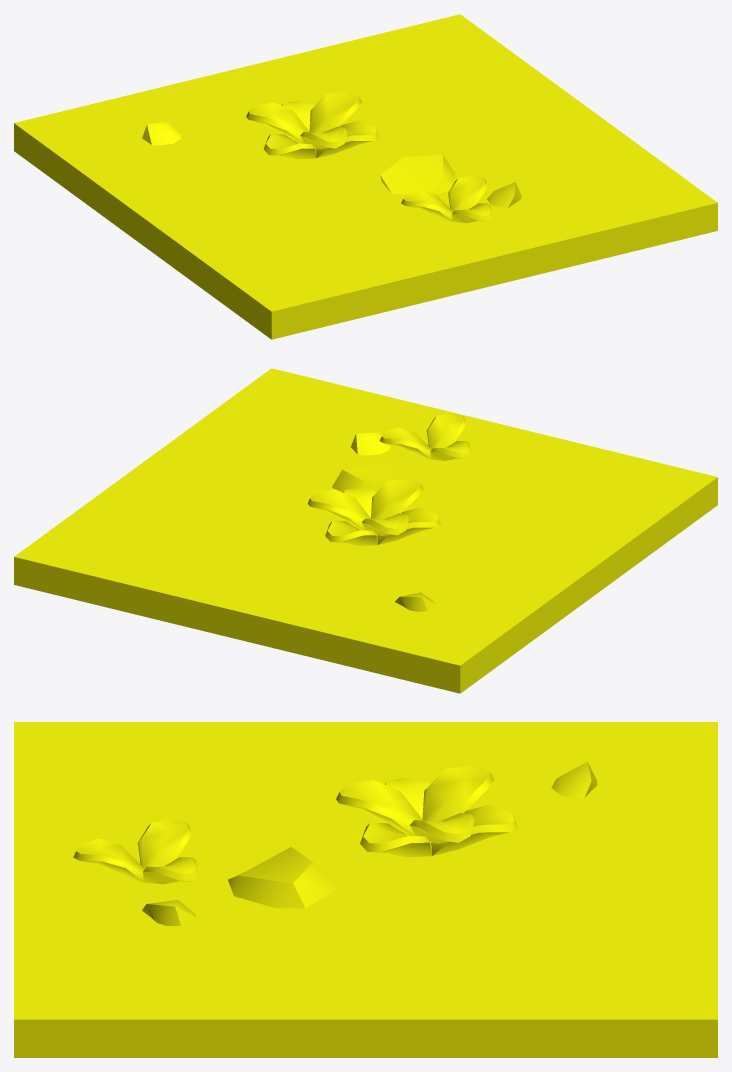
Rendered from kaykit-floor-dirt-small-weeds.glb.
3 renders of one model, top to bottom at view 1: azimuth 30°, elevation 25°; view 2: azimuth 150°, elevation 25°; view 3: azimuth 270°, elevation 25°, orthographic. The views are drawn at different scales.
Parts seen in each view (by area): view 1: floor_dirt_small_weeds; view 2: floor_dirt_small_weeds; view 3: floor_dirt_small_weeds.
Boxes of the visible parts, x1,y1,x2,y2 form: floor_dirt_small_weeds: (14,14,717,339); floor_dirt_small_weeds: (14,368,717,693); floor_dirt_small_weeds: (14,722,717,1057).
Size of the model in its own units: 2 by 0.2954 by 2.
